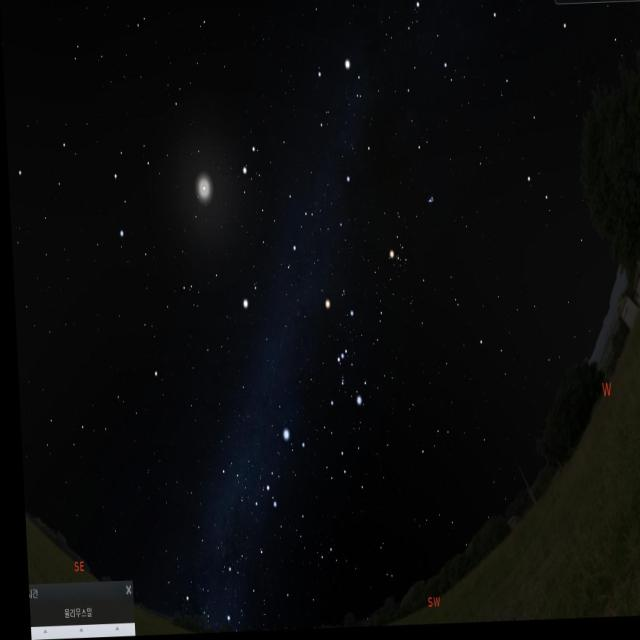canis_major: (255, 422, 307, 520)
canis_minor: (237, 277, 259, 316)
gemini: (232, 134, 314, 262)
leo: (5, 126, 156, 247)
moon: (192, 170, 215, 213)
orion: (313, 292, 365, 424)
pleiades: (422, 190, 437, 217)
taurus: (372, 167, 447, 289)
